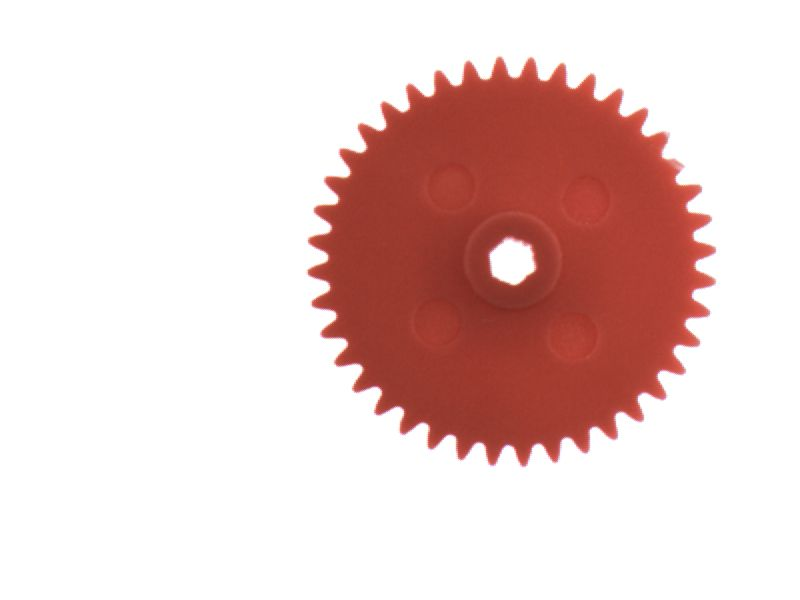defect_break: (655, 141, 699, 185)
